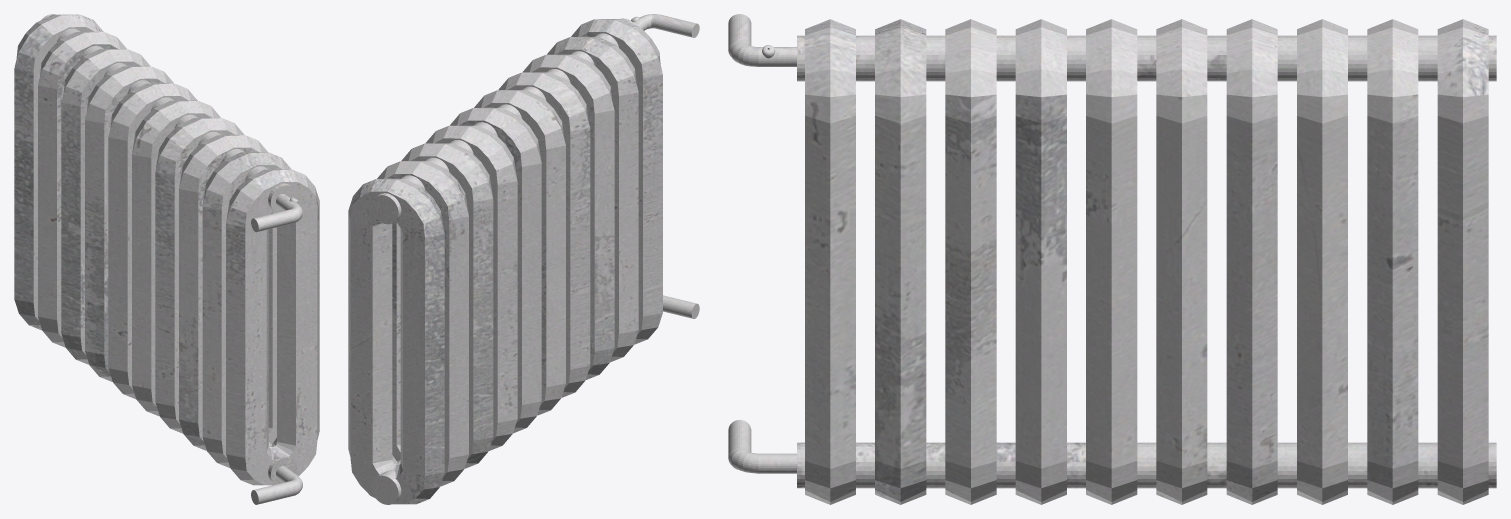
File: radiator.glb
3 views of the same model, side by side, from view 1: azimuth 30°, elevation 25°; view 2: azimuth 150°, elevation 25°; view 3: azimuth 270°, elevation 25° (orthographic). The views are drawn at different scales.
Parts seen in each view (by area): view 1: RadiatorMesh; view 2: RadiatorMesh; view 3: RadiatorMesh.
Boxes of the visible parts, x1,y1,x2,y2 form: RadiatorMesh: (14,14,319,504); RadiatorMesh: (348,14,699,504); RadiatorMesh: (728,14,1496,504).
Bounding box in the file's own units: 0.1899 × 0.6 × 0.8899.
Materials: 1 (1 with a texture image).
